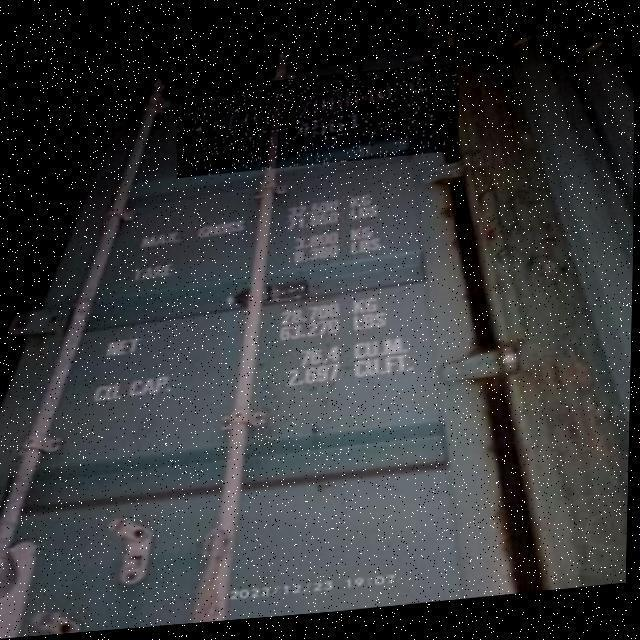container_number_h: (176, 70, 460, 181)
